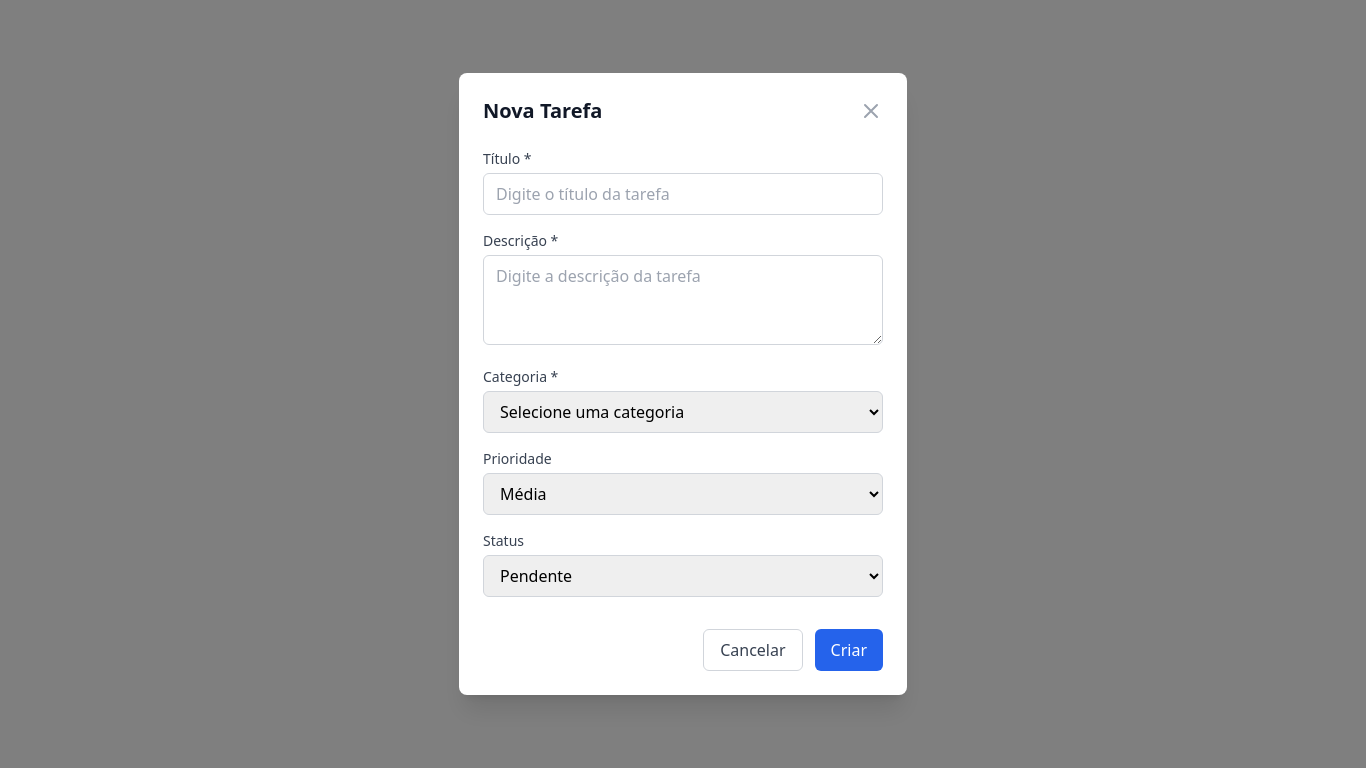
it: TaskForm › Validation › clears error when user types in field
The image size is (1366, 768).
Trigger validation
Click the button "Criar" at [849, 650], box [815,629,883,671]
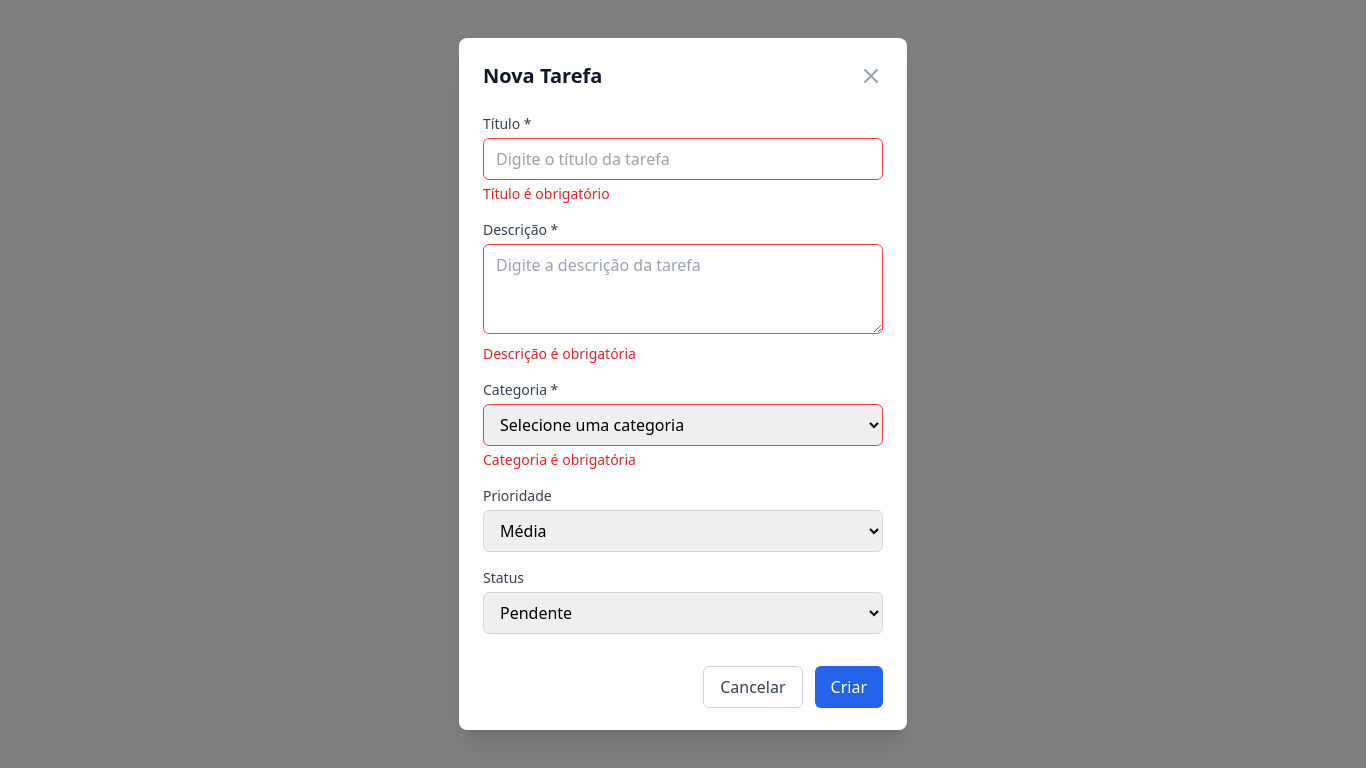
Now the text "Título é obrigatório" is shown, box [483,184,610,203]
Digite no campo
Type "Novo título" into the field labelled "Título *" at [683, 159], box [483,138,883,180]
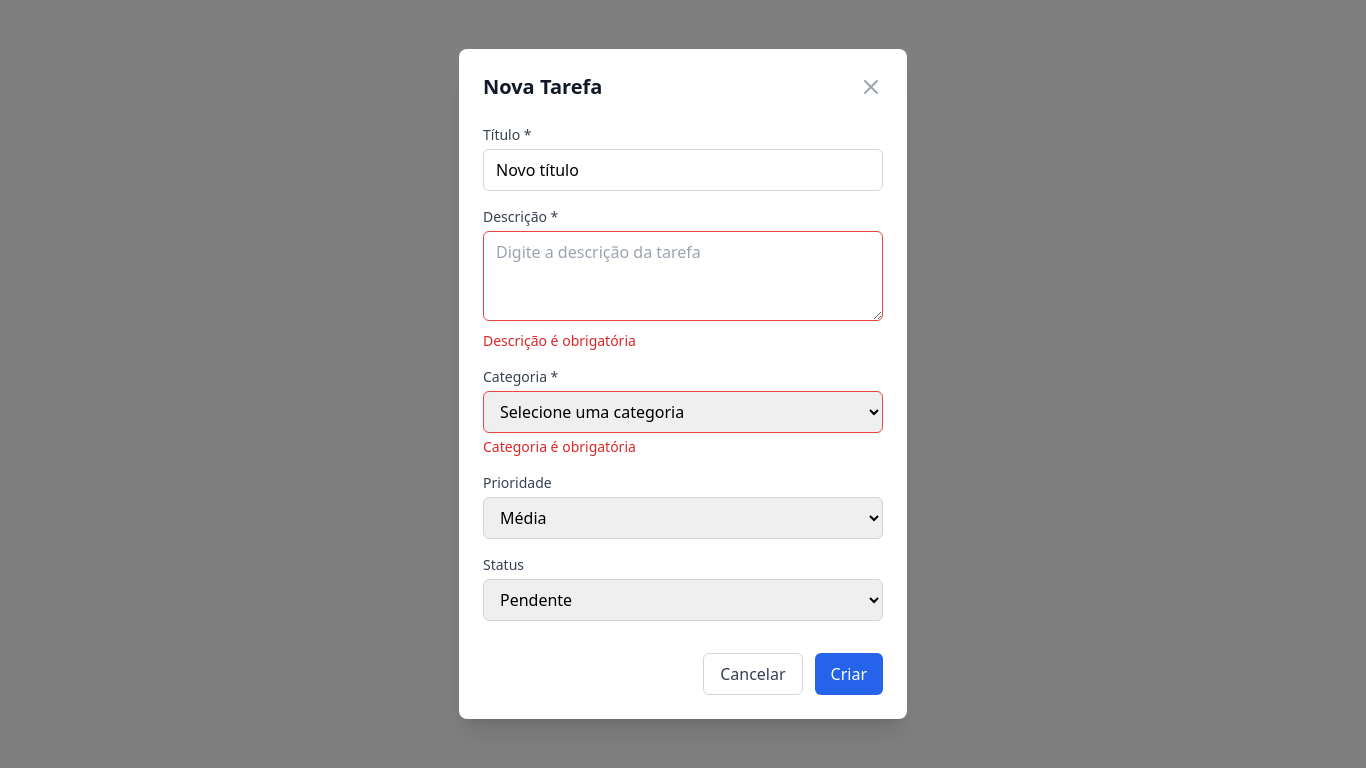
Now the text "Título é obrigatório" is gone
